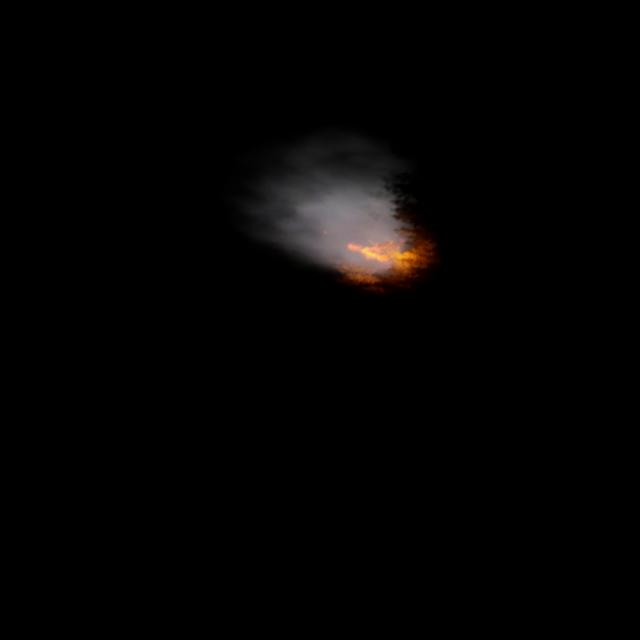fire: (343, 235, 416, 268)
smoke: (212, 107, 432, 286)
